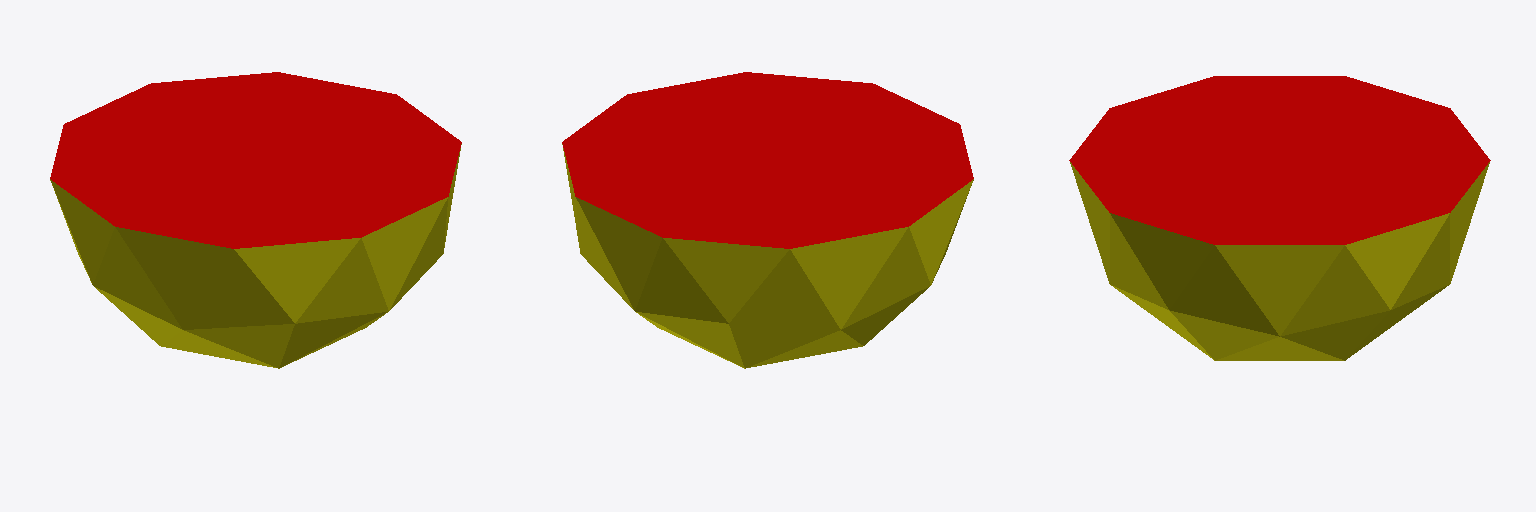
The model's file is upperJaw1.obj.
The picture shows the model from 3 angles: view 1: azimuth 30°, elevation 25°; view 2: azimuth 150°, elevation 25°; view 3: azimuth 270°, elevation 25°; orthographic projection.
Visible parts, largest first — view 1: Icosphere; view 2: Icosphere; view 3: Icosphere.
Part boxes in pixels (bbox=[...]): Icosphere: bbox=[50, 72, 461, 368]; Icosphere: bbox=[562, 72, 973, 368]; Icosphere: bbox=[1069, 76, 1490, 360].
Size of the model in its own units: 1.14 by 0.6 by 1.2.